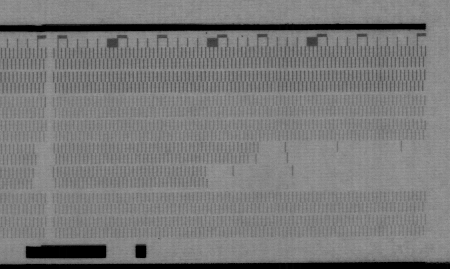Broken hole: (257, 141, 429, 193), (205, 164, 263, 193), (30, 144, 50, 188), (246, 151, 259, 164)
